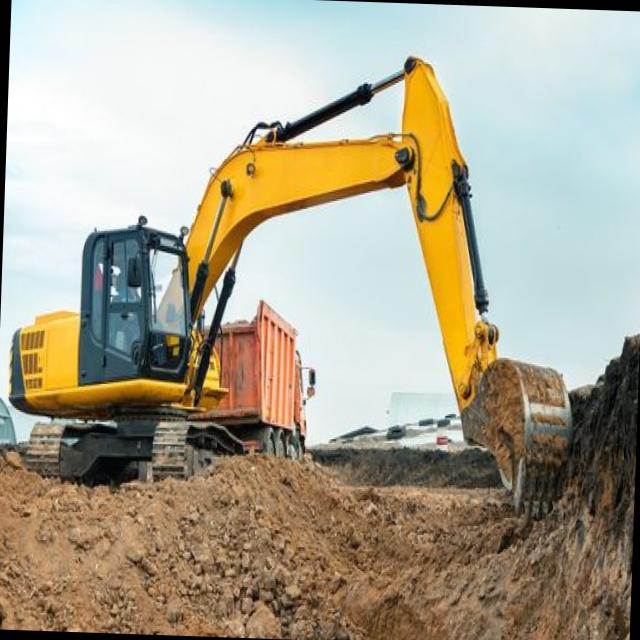red-sand: (0, 332, 640, 640)
